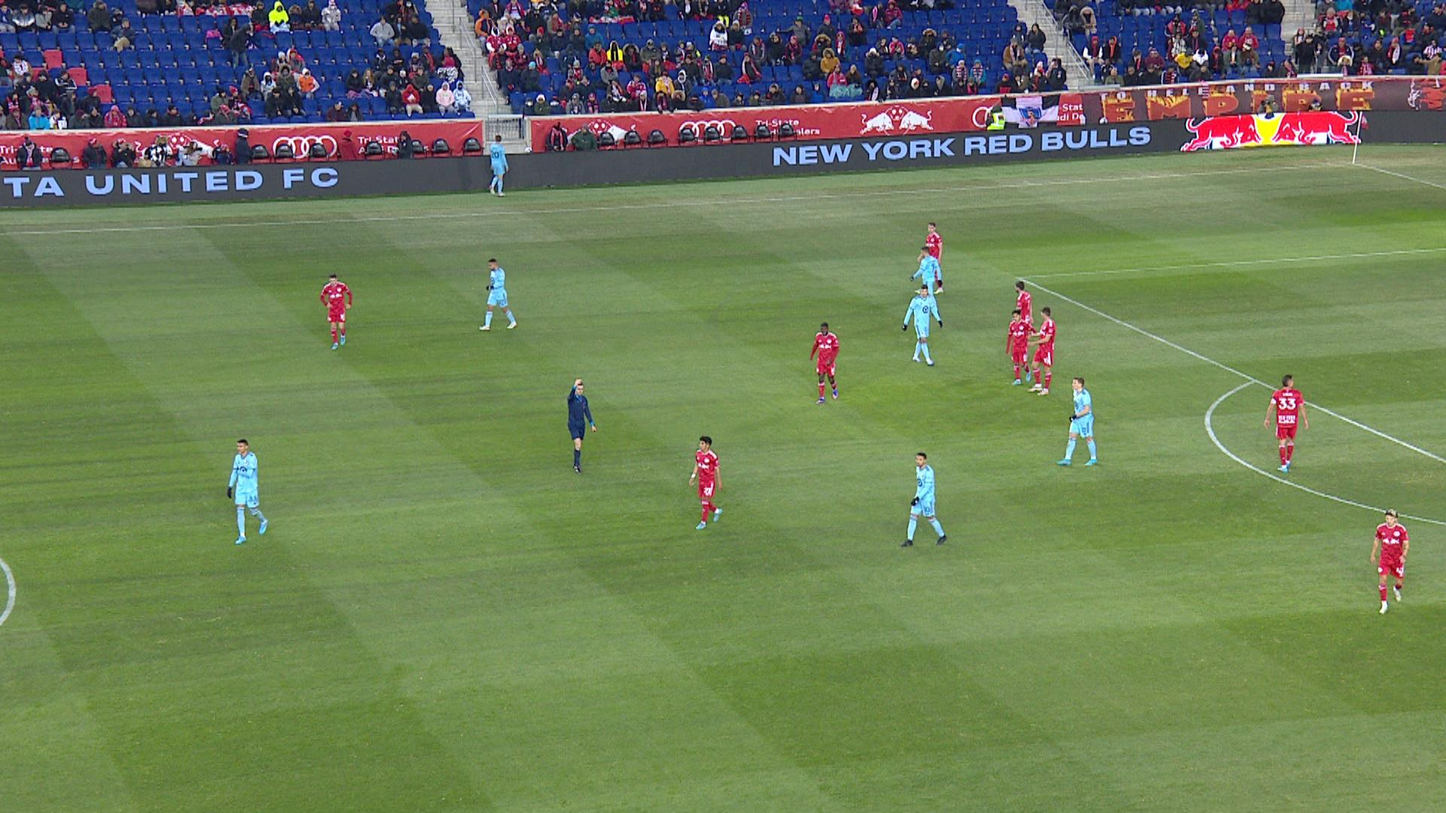Player: (227, 439, 270, 544), (900, 452, 947, 547), (1264, 374, 1309, 472), (1370, 508, 1410, 615), (1056, 376, 1098, 466), (902, 284, 942, 366), (689, 436, 723, 530), (478, 258, 517, 330), (1027, 306, 1056, 395), (320, 274, 352, 351), (810, 322, 839, 404), (1006, 310, 1037, 386), (910, 247, 942, 296), (489, 135, 509, 197), (1015, 281, 1035, 329), (925, 223, 943, 275), (933, 270, 944, 295), (917, 254, 923, 263), (914, 288, 920, 294)
referee: (567, 379, 597, 474)
